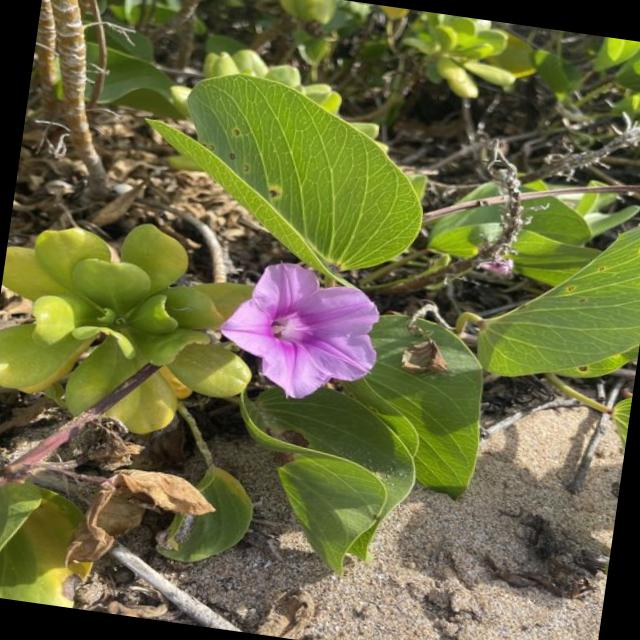ipomoea: (0, 203, 271, 452), (207, 252, 391, 413)
